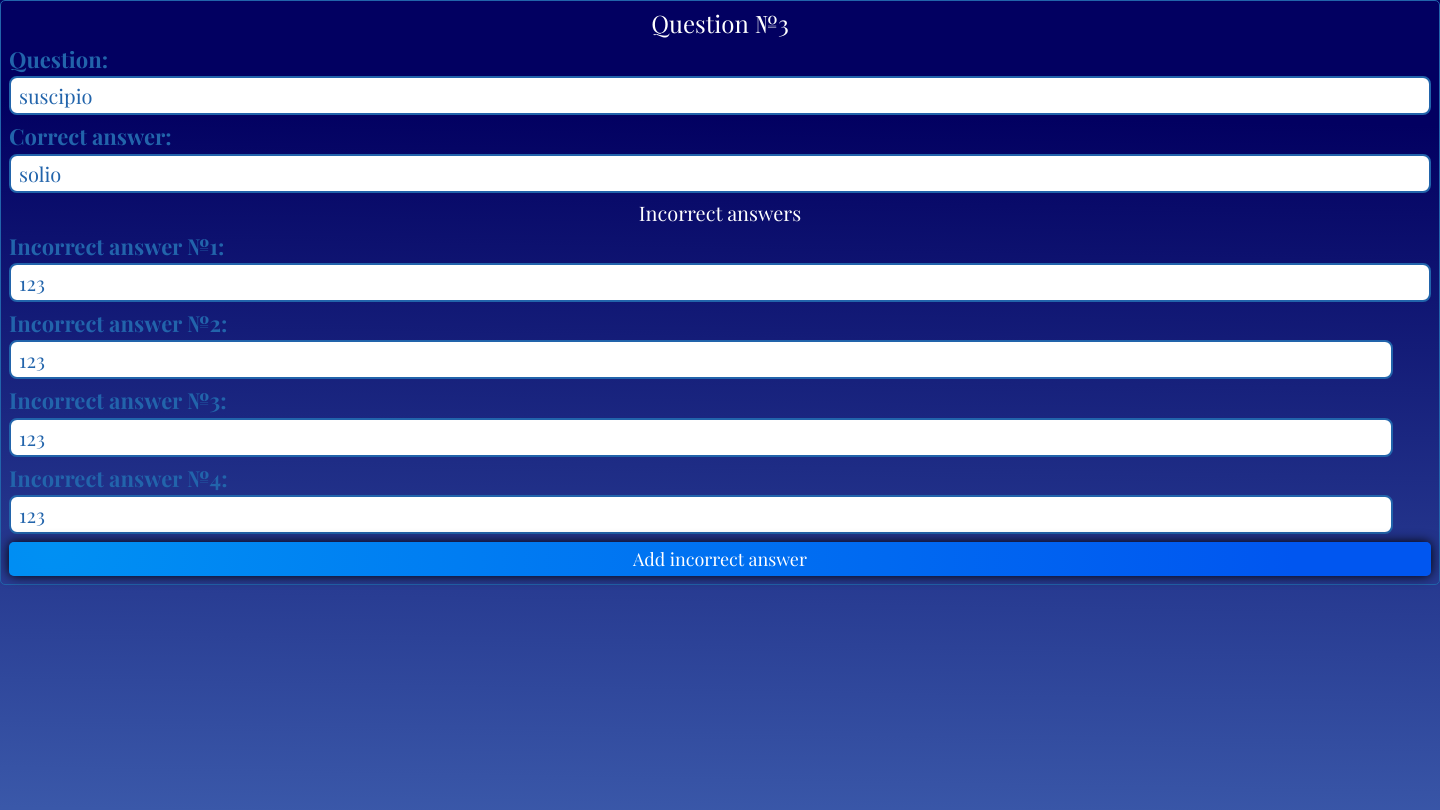
it: QuizFormQuestion component tests › should correct amount of incorrect answers and add it while it amount < 5
expect the number of "QuizFormIncorrectAnswer" components is 4: met, box [9,233,1431,302]; [9,310,1431,379]; [9,387,1431,457]; [9,465,1431,534]
Click the button with test id "add-incorrect-answer" at (720, 559), box [9,542,1431,576]
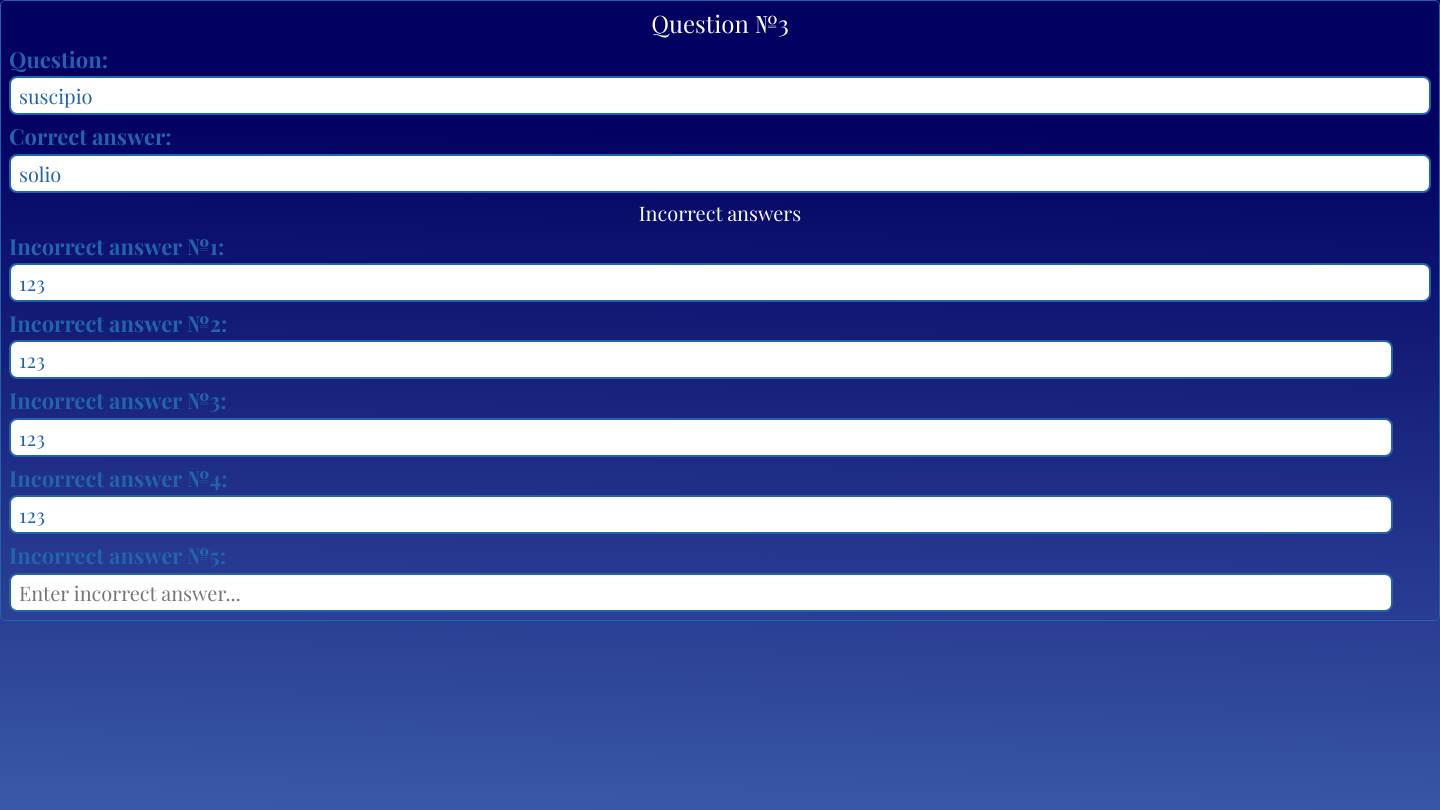
expect the number of "QuizFormIncorrectAnswer" components is 5: met, box [9,233,1431,302]; [9,310,1431,379]; [9,387,1431,457]; [9,465,1431,534]; [9,542,1431,612]
